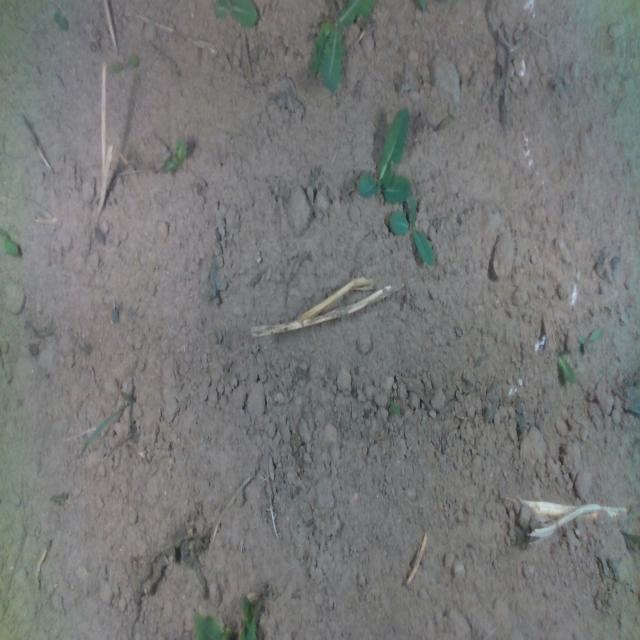weed: (575, 327, 600, 353)
